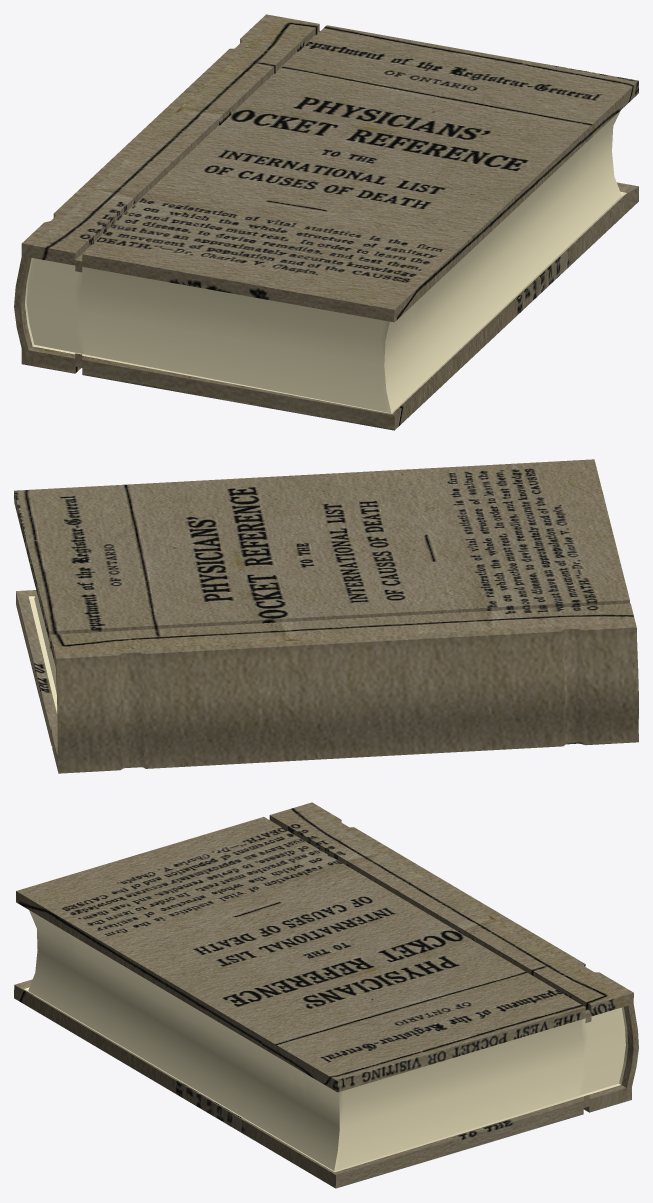
File: physicians_book.gltf
3 views of the same model, one above another, from view 1: azimuth 30°, elevation 25°; view 2: azimuth 150°, elevation 25°; view 3: azimuth 270°, elevation 25° (orthographic). The views are drawn at different scales.
Parts seen in each view (by area): view 1: book1; view 2: book1; view 3: book1.
Boxes of the visible parts, <box> form: book1: <box>14,14,638,430</box>; book1: <box>14,459,638,773</box>; book1: <box>14,802,638,1188</box>.
Bounding box in the file's own units: 3.68 × 0.7054 × 3.47.
